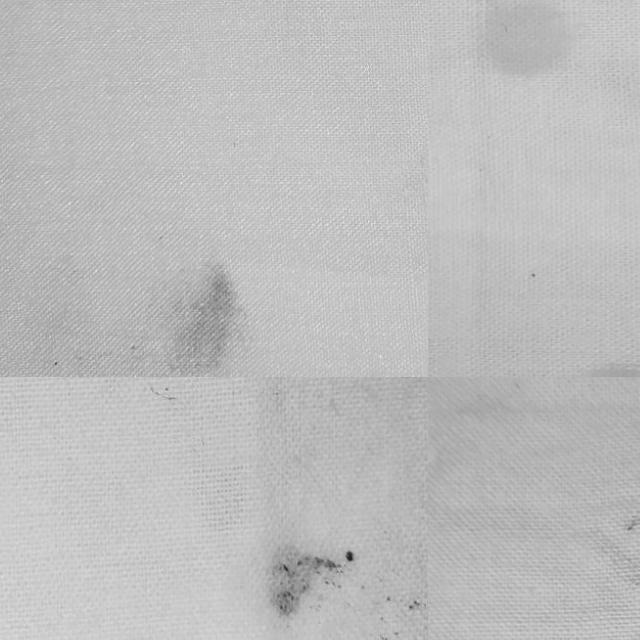Hole: (83, 206, 281, 377), (236, 493, 428, 640), (609, 479, 640, 621)
